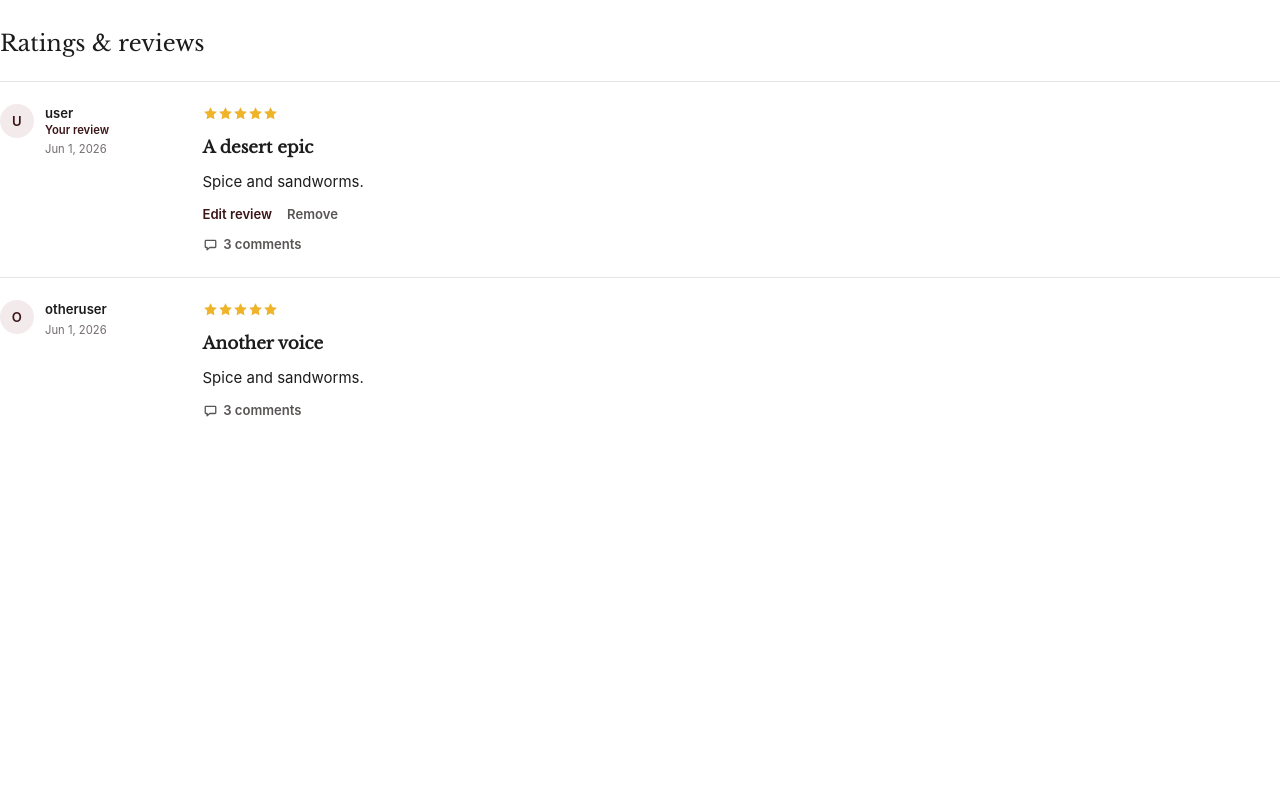
Test: BookReviews › should close another review without asking about the review being edited
Click the button "Edit review" at point(237, 215), box [202,205,272,224]
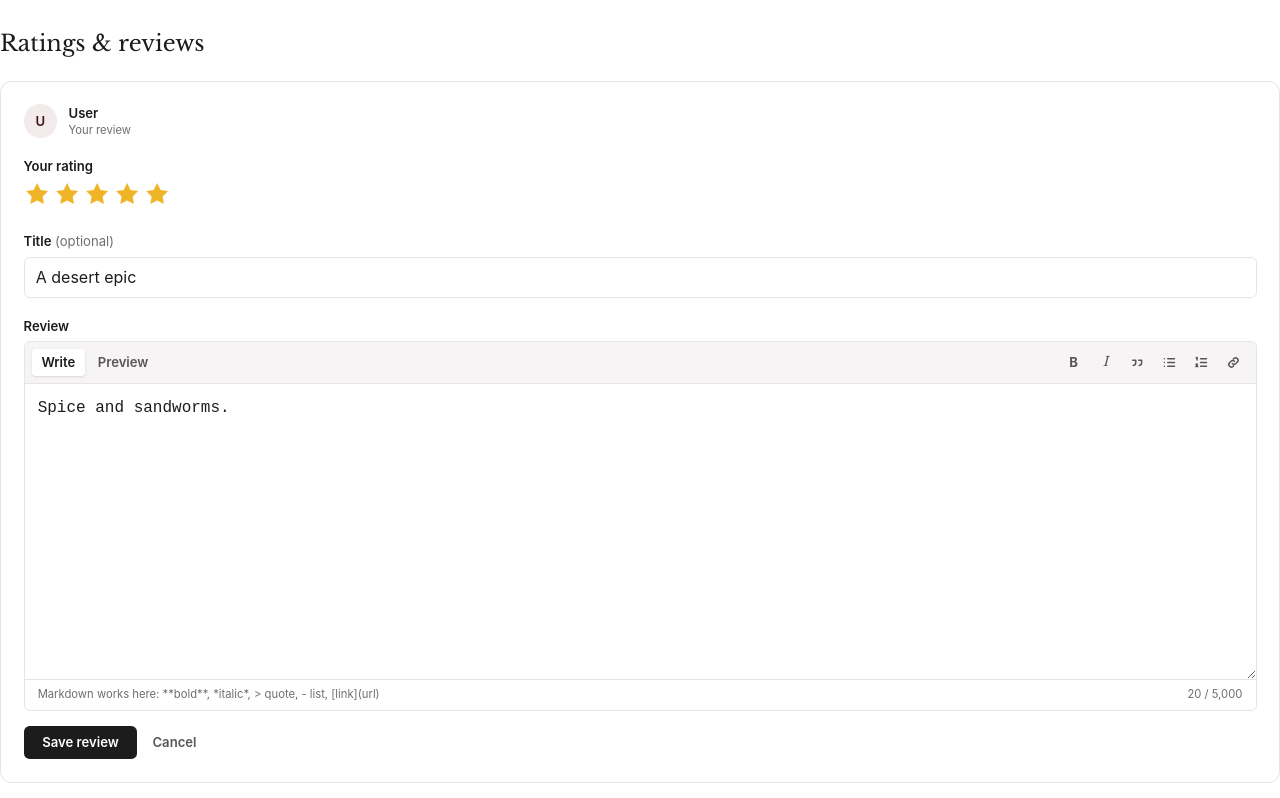
Type ", twice" into the field labelled "Title" at point(640, 277), box [24,256,1256,298]
(page scrolled)
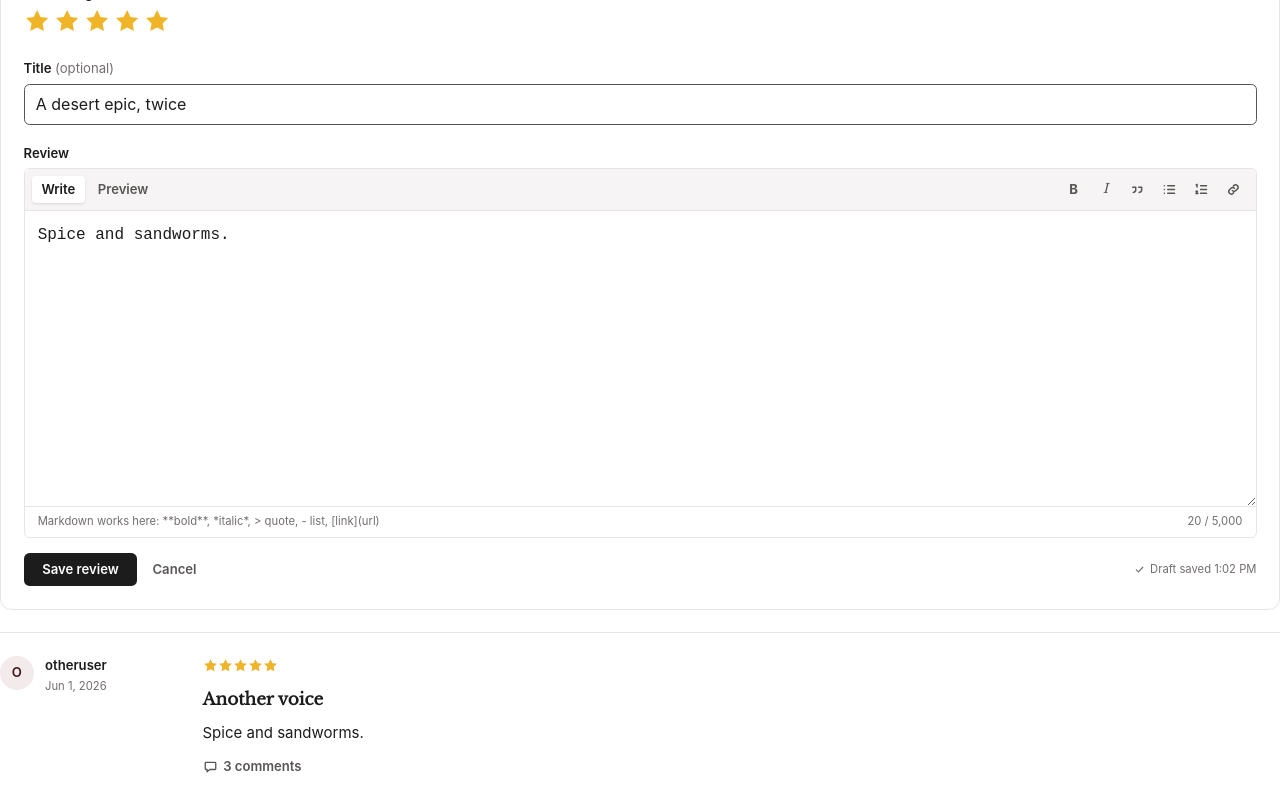
Click the button "3 comments" at point(252, 766), box [202,757,302,776]
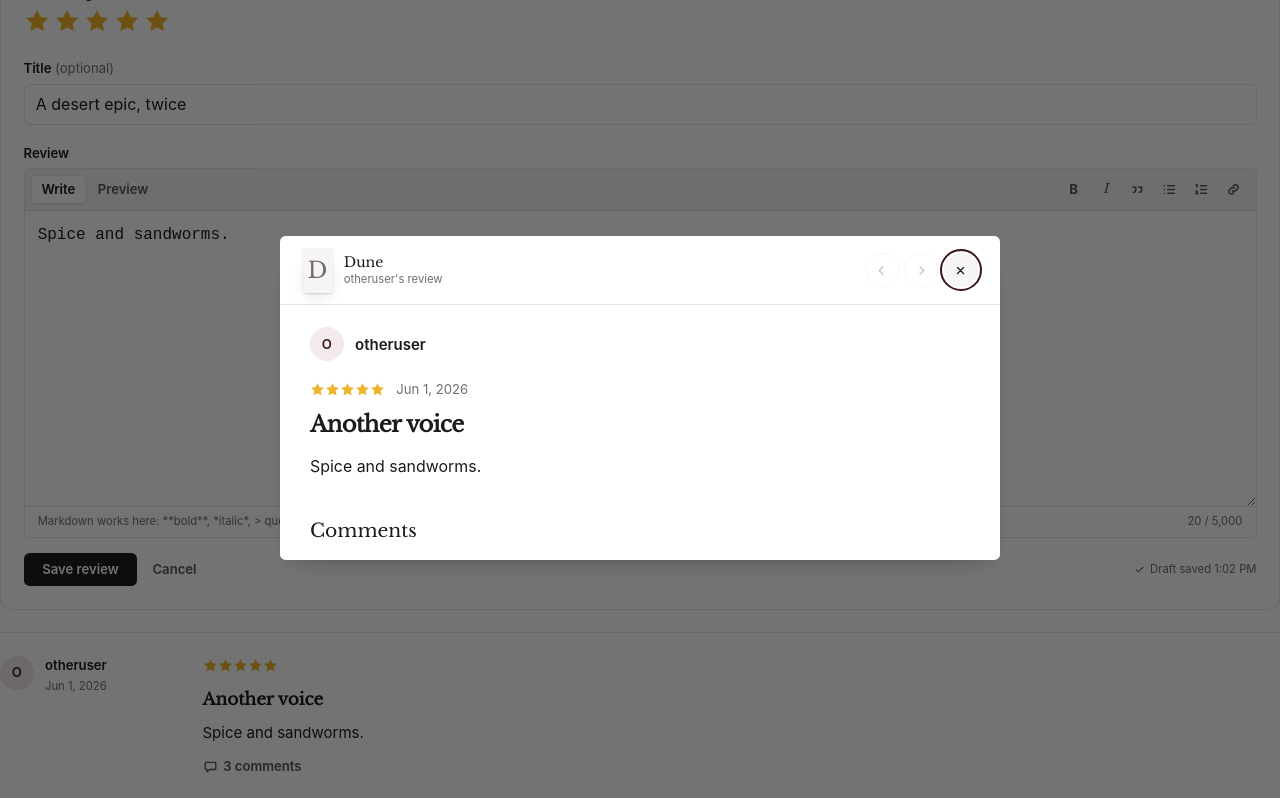
Click the button named "Close" at point(961, 270), box [944,253,978,287]
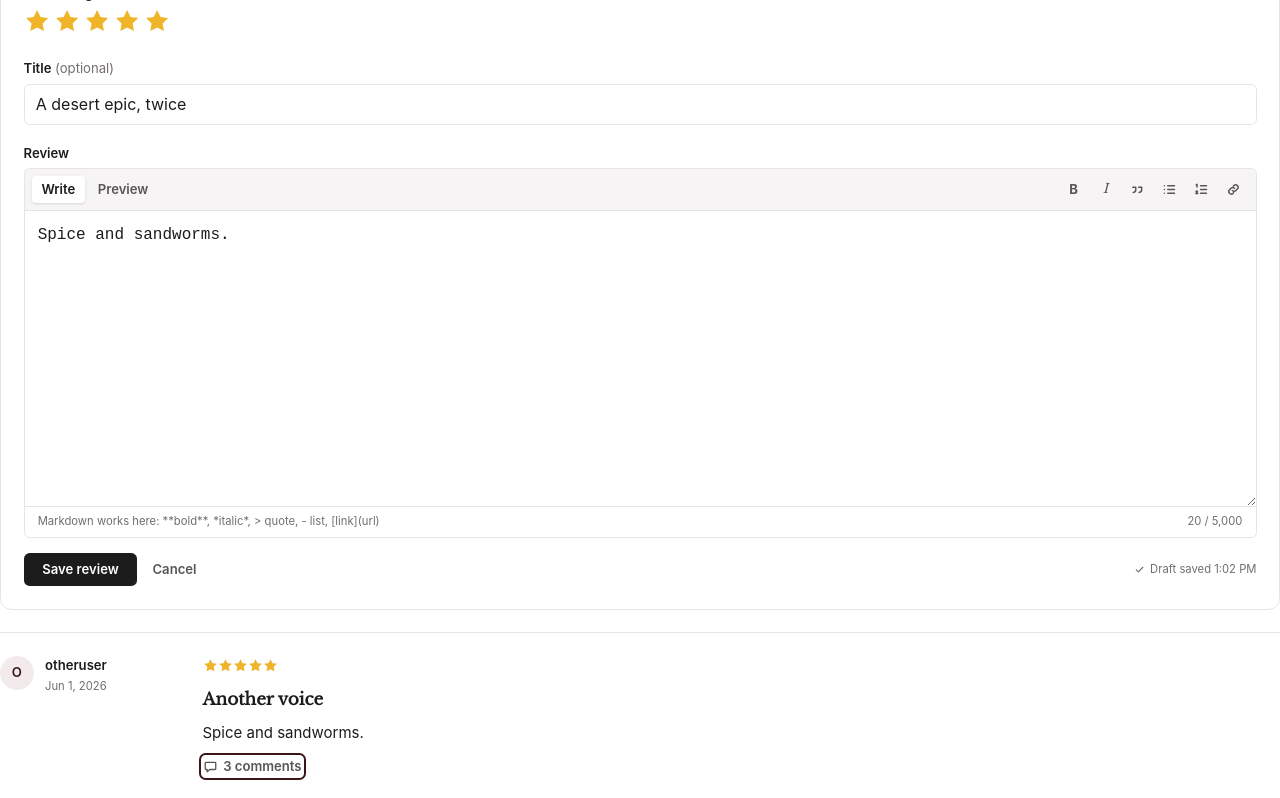
Check: the dialog is gone
